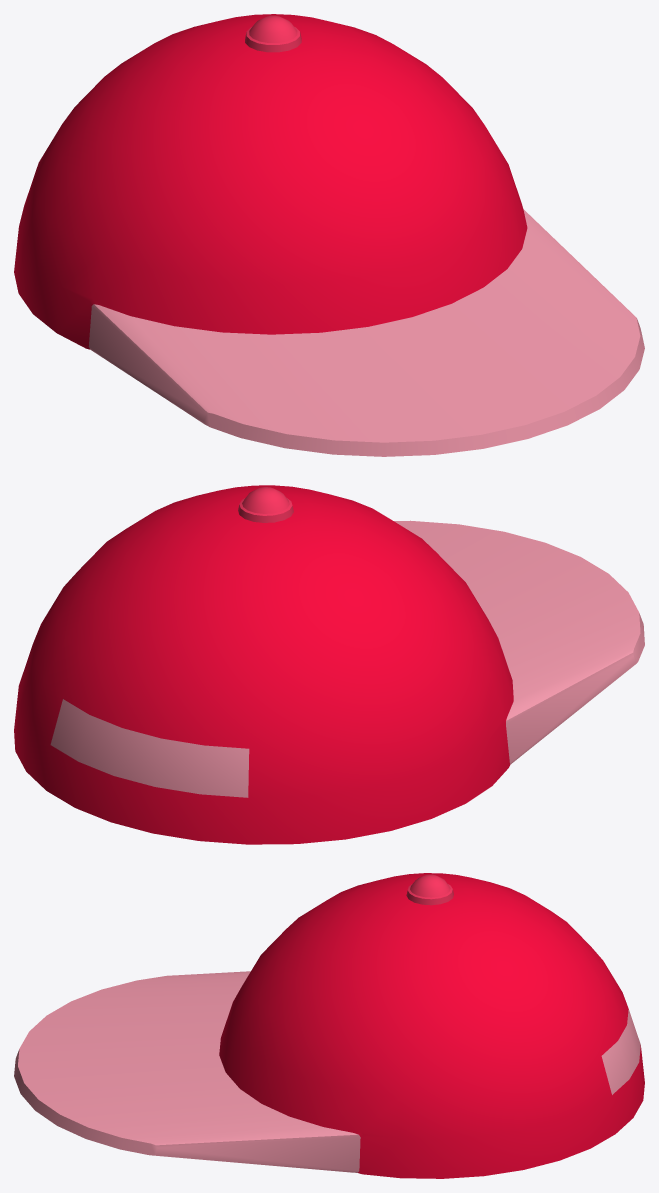
File: Gorra.fbx
The picture shows the model from 3 angles, top to bottom: view 1: azimuth 30°, elevation 25°; view 2: azimuth 150°, elevation 25°; view 3: azimuth 270°, elevation 25°; orthographic projection. The views are drawn at different scales.
Visible parts, largest first — view 1: Gorra; view 2: Gorra; view 3: Gorra.
Boxes of the visible parts, x1,y1,x2,y2 form: Gorra: (14,14,644,456); Gorra: (14,485,644,844); Gorra: (14,873,644,1178).
Bounding box in the file's own units: 30.31 × 16.46 × 44.48.
